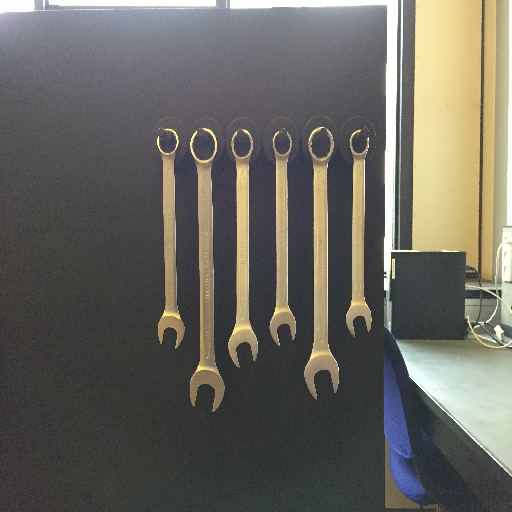bottom: (300, 351, 344, 404), (187, 367, 228, 413), (224, 328, 261, 369), (154, 310, 187, 353), (342, 302, 375, 338), (266, 311, 299, 346)
top: (188, 125, 222, 167), (306, 124, 336, 162), (228, 127, 256, 161), (152, 126, 181, 157), (270, 127, 295, 162), (346, 127, 371, 158)
